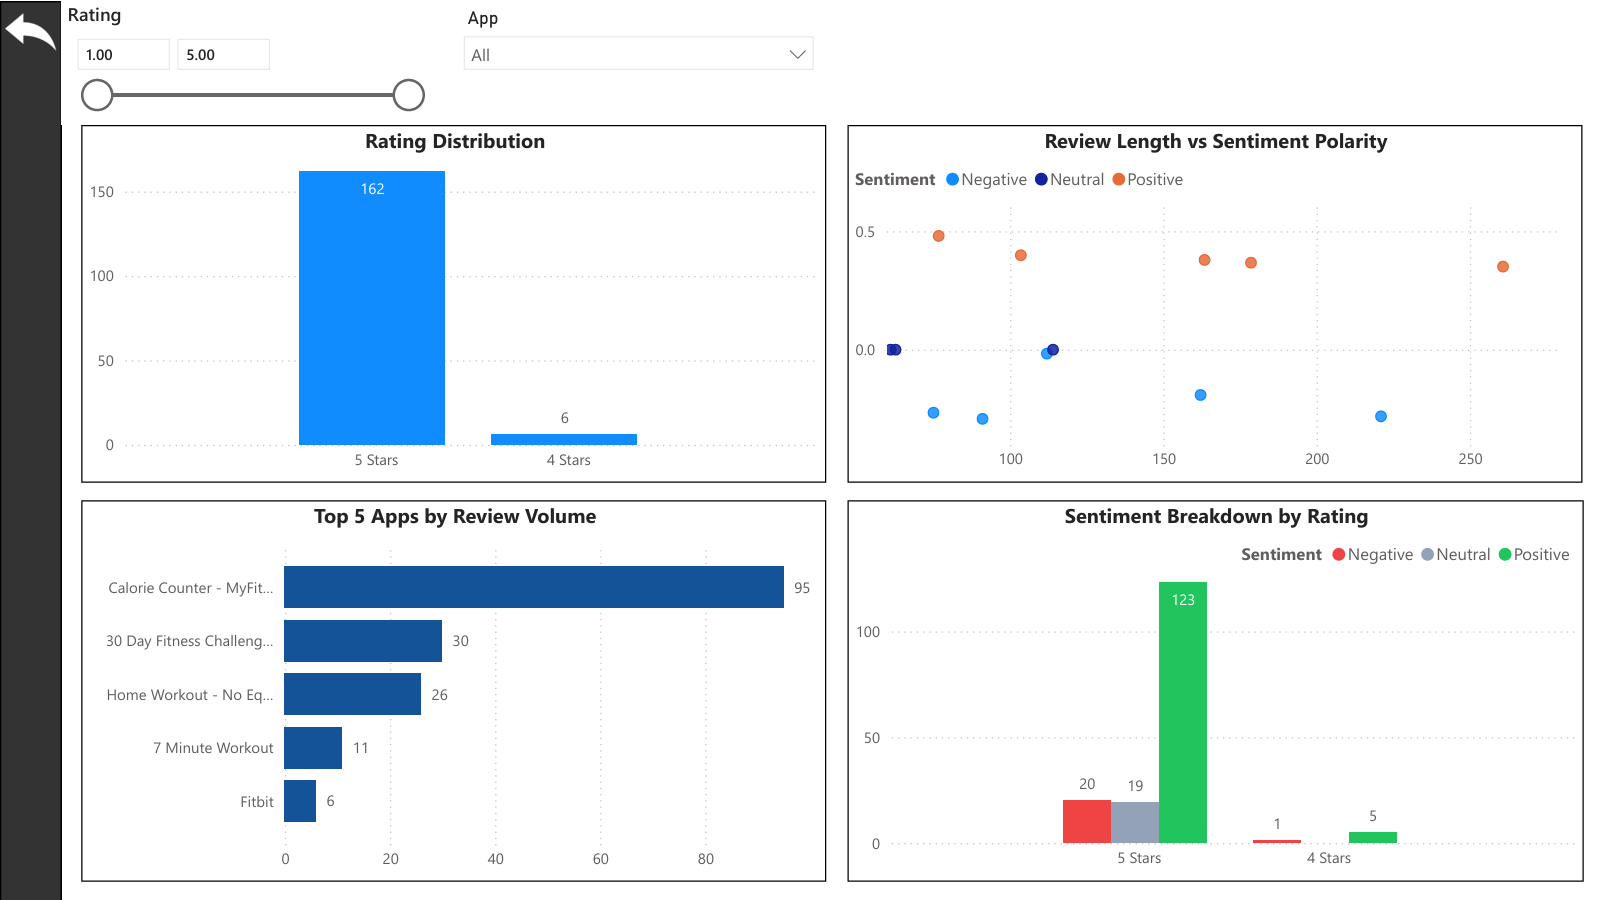

The dashboard page shown, as its layout file describes it:
{"tool":"powerbi","page":{"name":"Review Analysis","canvas":[1280,720],"ordinal":1},"visuals":[{"type":"clusteredColumnChart","title":"Sentiment Breakdown by Rating","fields":{"Y":["Measure (2).Reviews Count"],"Category":["clean_health_reviews.Rating Stars"],"Series":["clean_health_reviews.Sentiment"]},"box":[677.5,398.8,588.8,305],"z":0},{"type":"clusteredBarChart","title":"Top 5 Apps by Review Volume","fields":{"Category":["clean_health_reviews.App"],"Y":["Measure (2).Reviews Count"]},"box":[65,398.8,596.2,305],"z":1000},{"type":"clusteredColumnChart","title":"Rating Distribution","fields":{"Y":["Measure (2).Reviews Count"],"Category":["clean_health_reviews.Rating Stars"]},"box":[65,98.8,596.2,286.2],"z":2000},{"type":"scatterChart","title":"Review Length vs Sentiment Polarity","fields":{"X":["Measure (2).Average Review Length"],"Y":["Measure (2).Average Sentiment Polarity"],"Series":["clean_health_reviews.Sentiment"],"Category":["clean_health_reviews.App"]},"box":[677.5,98.8,587.5,286.2],"z":3000},{"type":"shape","box":[0,0,49.4,720.2],"z":4000},{"type":"slicer","title":"Rating","fields":{"Values":["clean_health_reviews.Rating"]},"box":[48.8,0,298.8,98.8],"z":5000},{"type":"slicer","fields":{"Values":["clean_health_reviews.App"]},"box":[361.2,0,300,98.8],"z":6000},{"type":"image","box":[0,0,49.1,49.1],"z":7000}]}

Visuals, with their boxes in screenshot pixels (x1, y1, x2, y2):
"Sentiment Breakdown by Rating" clusteredColumnChart: bbox=[829, 499, 1554, 874]
"Top 5 Apps by Review Volume" clusteredBarChart: bbox=[76, 499, 809, 874]
"Rating Distribution" clusteredColumnChart: bbox=[76, 130, 809, 482]
"Review Length vs Sentiment Polarity" scatterChart: bbox=[829, 130, 1552, 482]
shape: bbox=[0, 8, 57, 894]
"Rating" slicer: bbox=[56, 8, 424, 130]
slicer - clean_health_reviews.App: bbox=[440, 8, 809, 130]
image: bbox=[0, 8, 56, 69]
